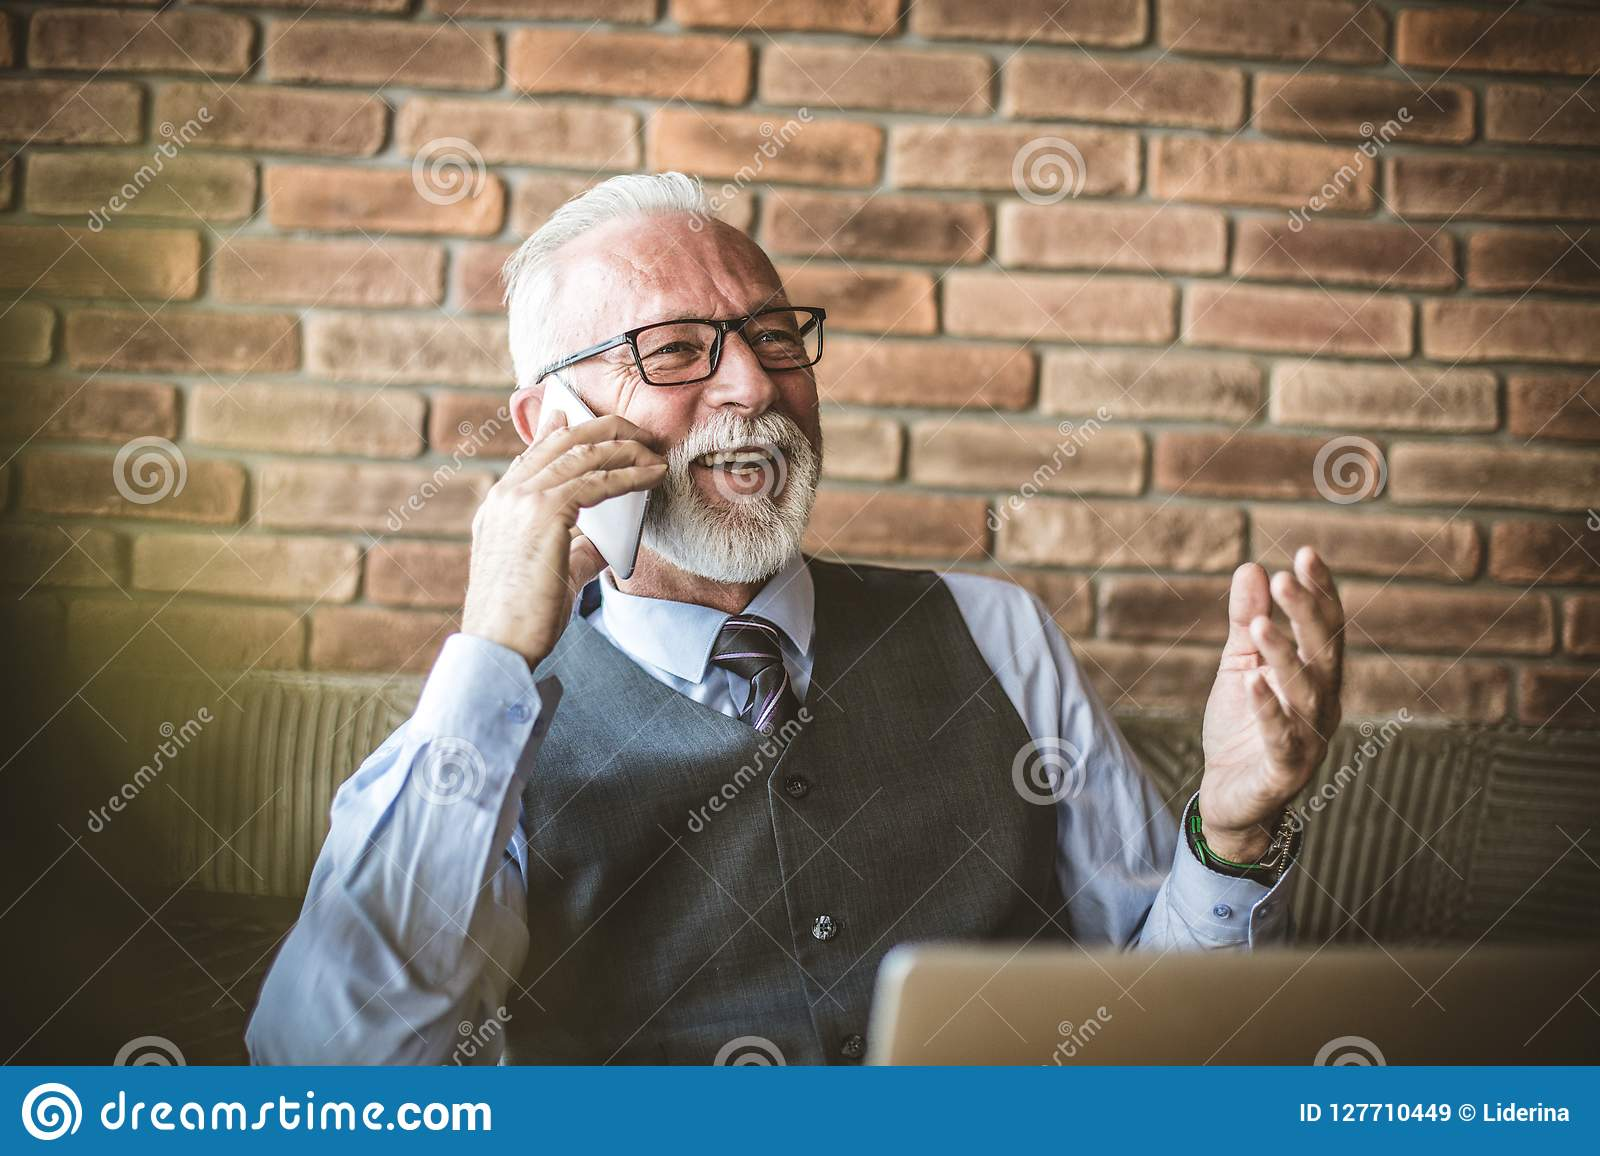phone: (529, 373, 662, 586)
talk: (465, 292, 824, 658)
